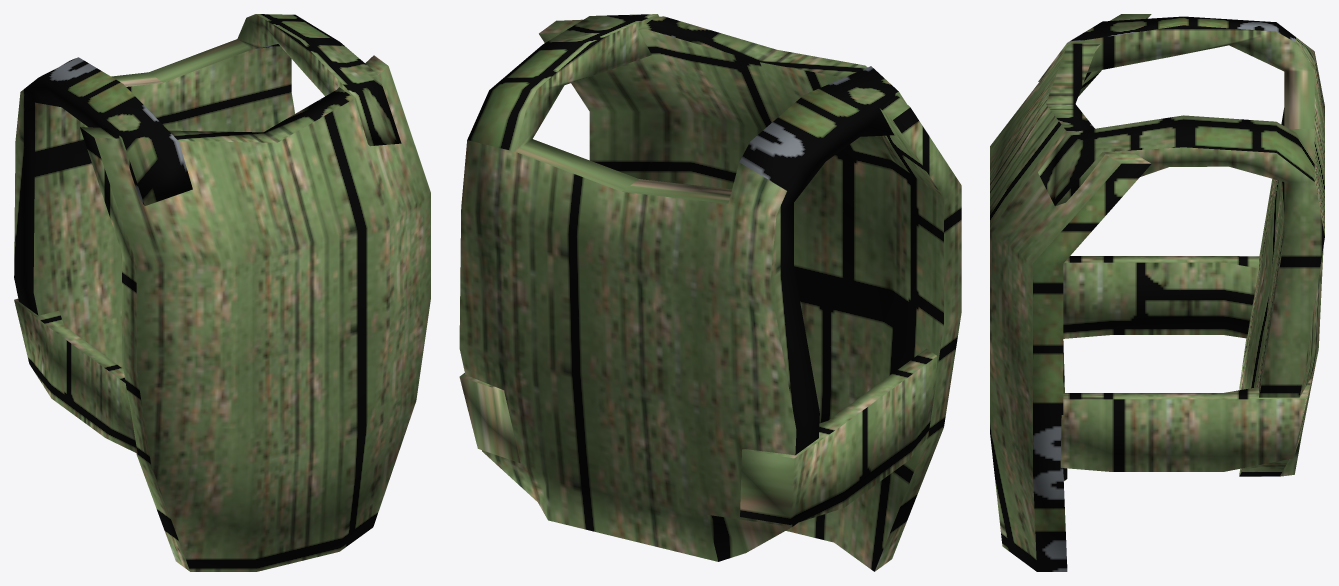
Rendered from W-Бронежилет СССР.fbx.
3 renders of one model, left to right at view 1: azimuth 30°, elevation 25°; view 2: azimuth 150°, elevation 25°; view 3: azimuth 270°, elevation 25°, orthographic. The views are drawn at different scales.
Parts seen in each view (by area): view 1: Объект Куб.2; view 2: Объект Куб.2; view 3: Объект Куб.2.
Part boxes in pixels (box(x1,y1,x2,y2)): Объект Куб.2: box(14, 14, 430, 571); Объект Куб.2: box(459, 14, 961, 571); Объект Куб.2: box(990, 14, 1324, 571).
Size of the model in its own units: 34.94 by 49.5 by 33.02.
